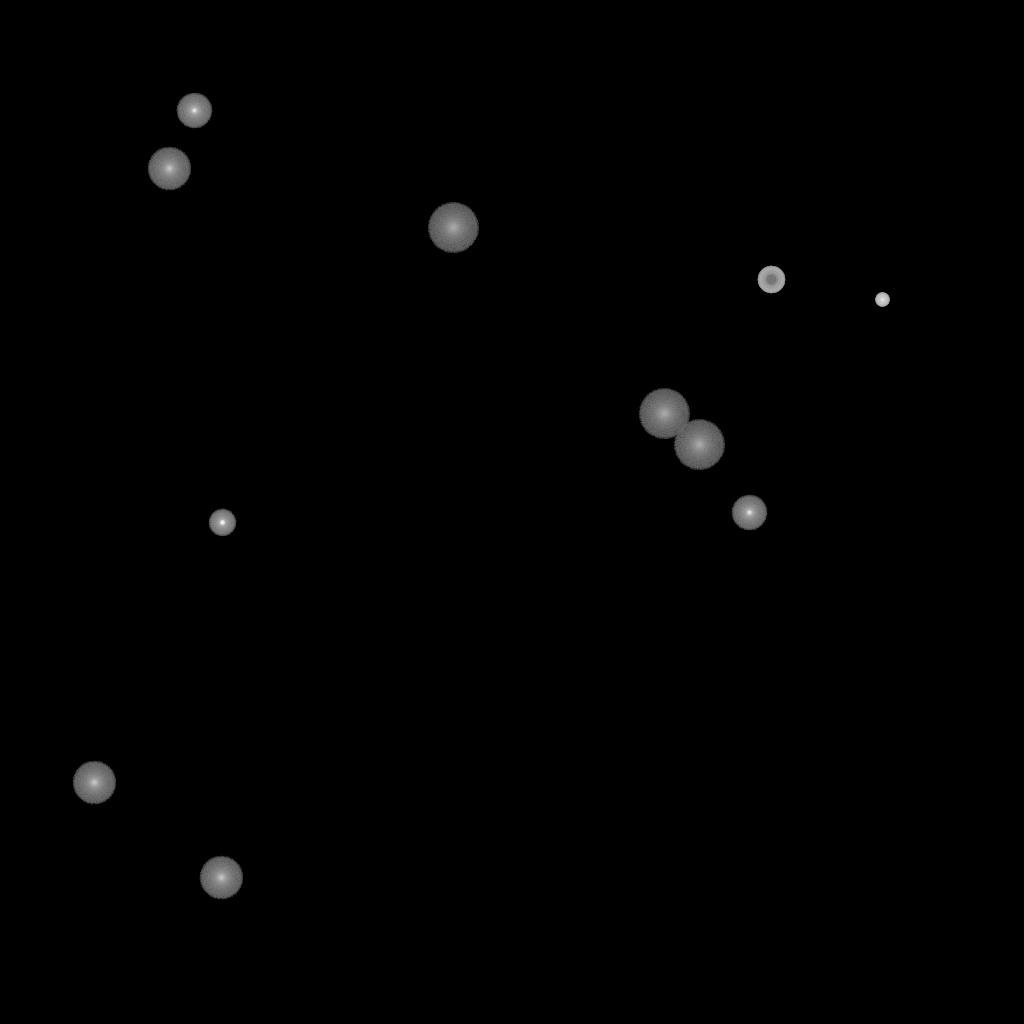depth:-10: (208, 509, 236, 537)
depth:-30: (875, 293, 889, 307)
depth:-50: (757, 266, 785, 294)
depth:0: (731, 495, 767, 531), (176, 93, 212, 129)
depth:10: (147, 147, 191, 191), (72, 761, 116, 805), (199, 856, 243, 900)
depth:20: (673, 420, 725, 470), (427, 203, 479, 253), (638, 389, 690, 439)
